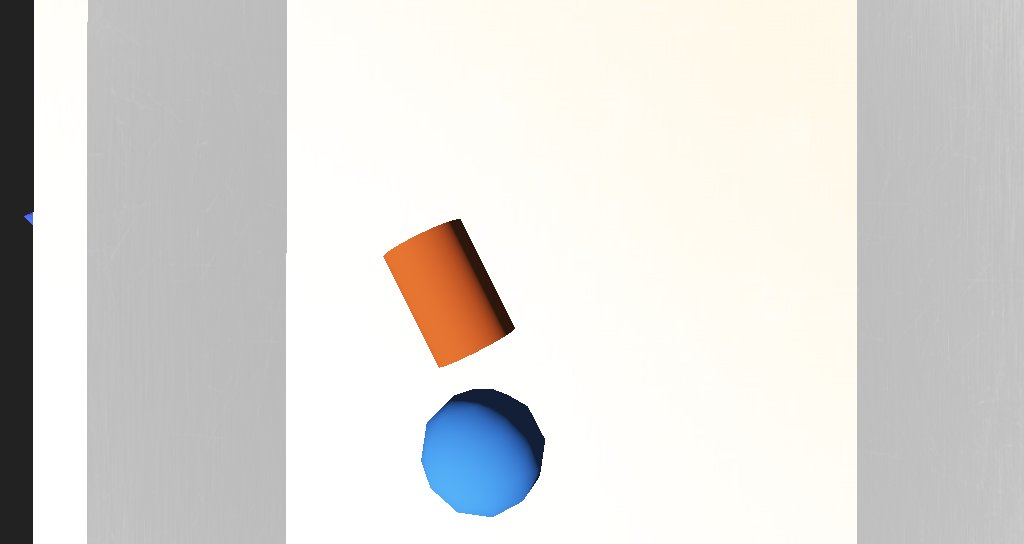cone: (408, 251, 482, 303)
cylinder: (195, 227, 303, 279)
sphere: (424, 313, 492, 356)
